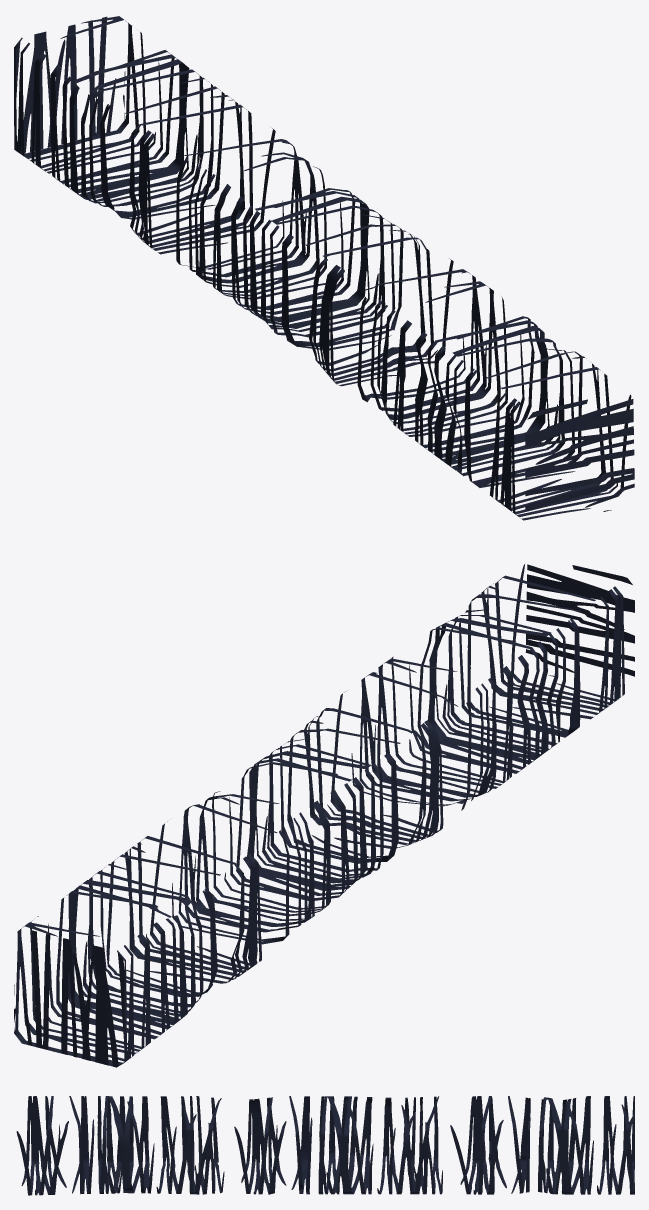
The picture shows the model from 3 angles, top to bottom: view 1: azimuth 30°, elevation 25°; view 2: azimuth 150°, elevation 25°; view 3: azimuth 270°, elevation 25°; orthographic projection. The views are drawn at different scales.
Visible parts, largest first — view 1: SM_WT_GrassShort_04_LOD0; view 2: SM_WT_GrassShort_04_LOD0; view 3: SM_WT_GrassShort_04_LOD0.
Part boxes in pixels (x1,y1,x2,y2): SM_WT_GrassShort_04_LOD0: (14, 16, 634, 520); SM_WT_GrassShort_04_LOD0: (14, 564, 634, 1067); SM_WT_GrassShort_04_LOD0: (16, 1096, 634, 1195).
Bounding box in the file's own units: 1 × 1.02 × 8.
